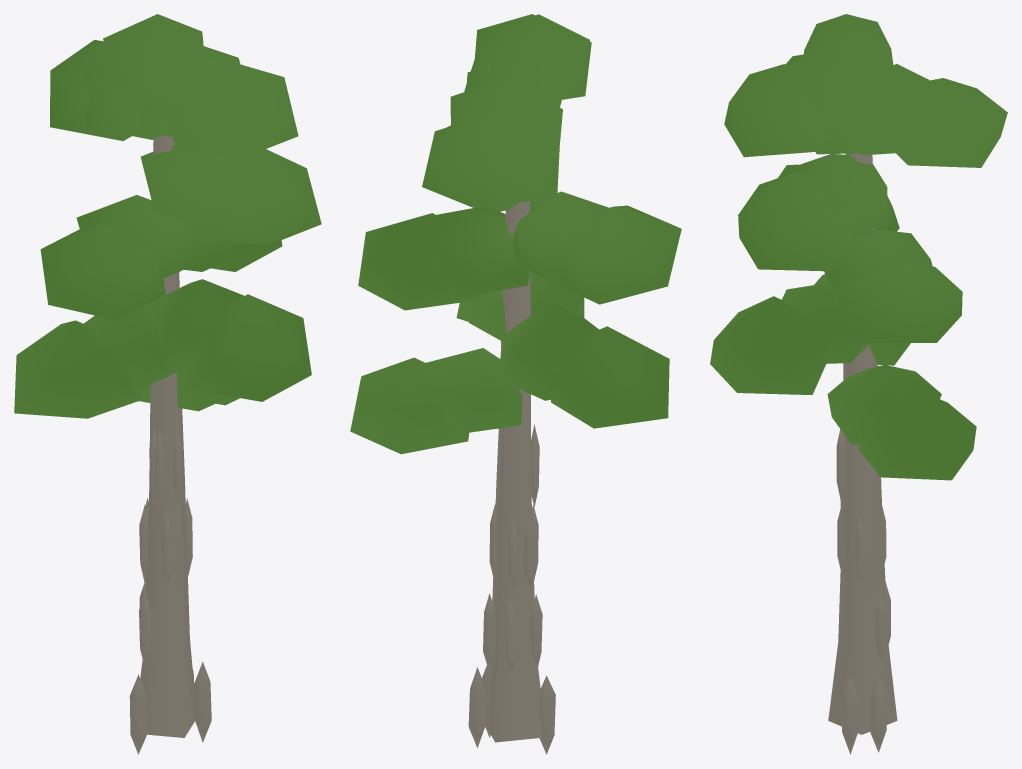
The model's file is Blender_Shagbark_2_Far.glb.
The picture shows the model from 3 angles, left to right: view 1: azimuth 30°, elevation 25°; view 2: azimuth 150°, elevation 25°; view 3: azimuth 270°, elevation 25°; orthographic projection. The views are drawn at different scales.
Visible parts, largest first — view 1: Blender_Shagbark_2_Far; view 2: Blender_Shagbark_2_Far; view 3: Blender_Shagbark_2_Far.
Part boxes in pixels (<box>): Blender_Shagbark_2_Far: <box>14,14,321,754</box>; Blender_Shagbark_2_Far: <box>350,14,681,754</box>; Blender_Shagbark_2_Far: <box>710,14,1007,754</box>.
Size of the model in its own units: 9 by 22.55 by 8.47.
